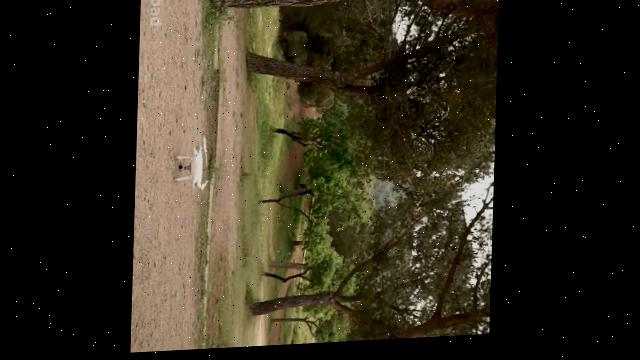drone: (173, 136, 213, 196)
